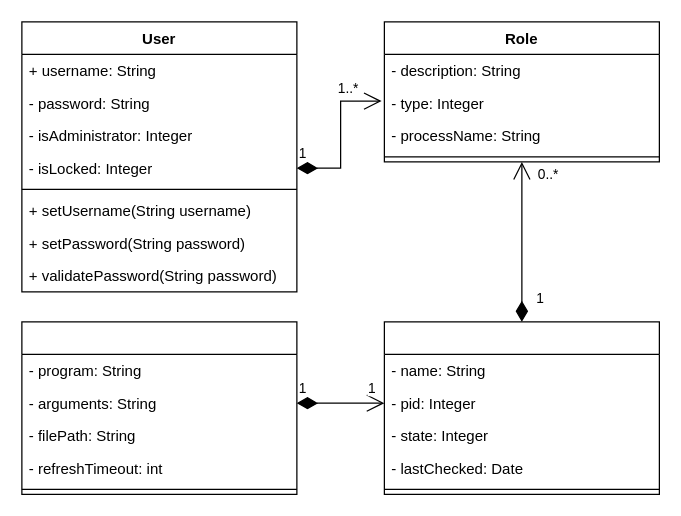
Some shapes in this 681 by 516 pixel diagram are drawn without their labels. The shapes that lost their labels are listed below. From the top down, each one's box as (x1, y1, x2, y2) in pixels, then its label:
(21, 321, 297, 494): Configuration
(383, 321, 659, 494): Process
